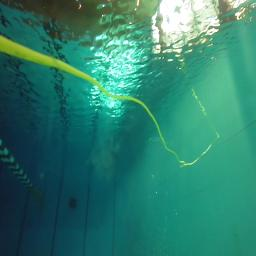Full: (68, 202, 76, 209)
